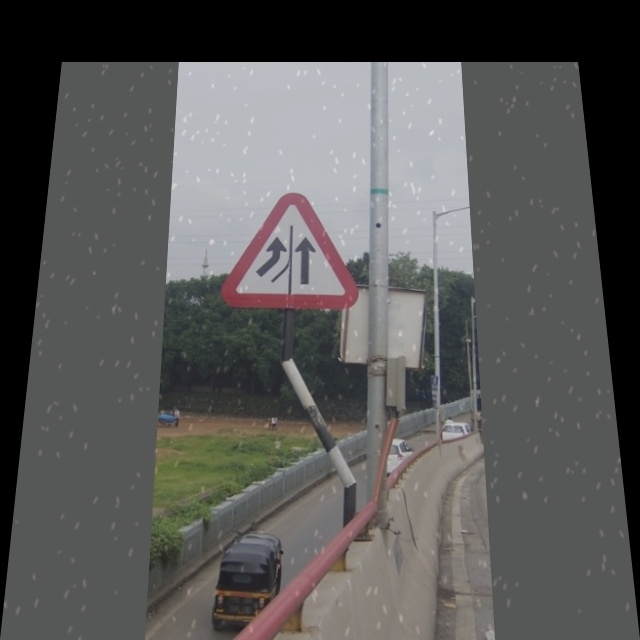Merge_Traffic_Ahead: (220, 187, 362, 318)
